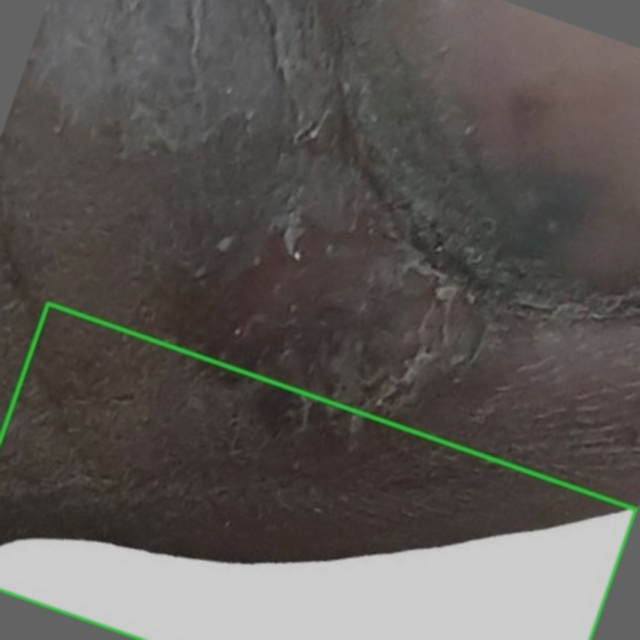Eczema: (0, 303, 636, 639)
